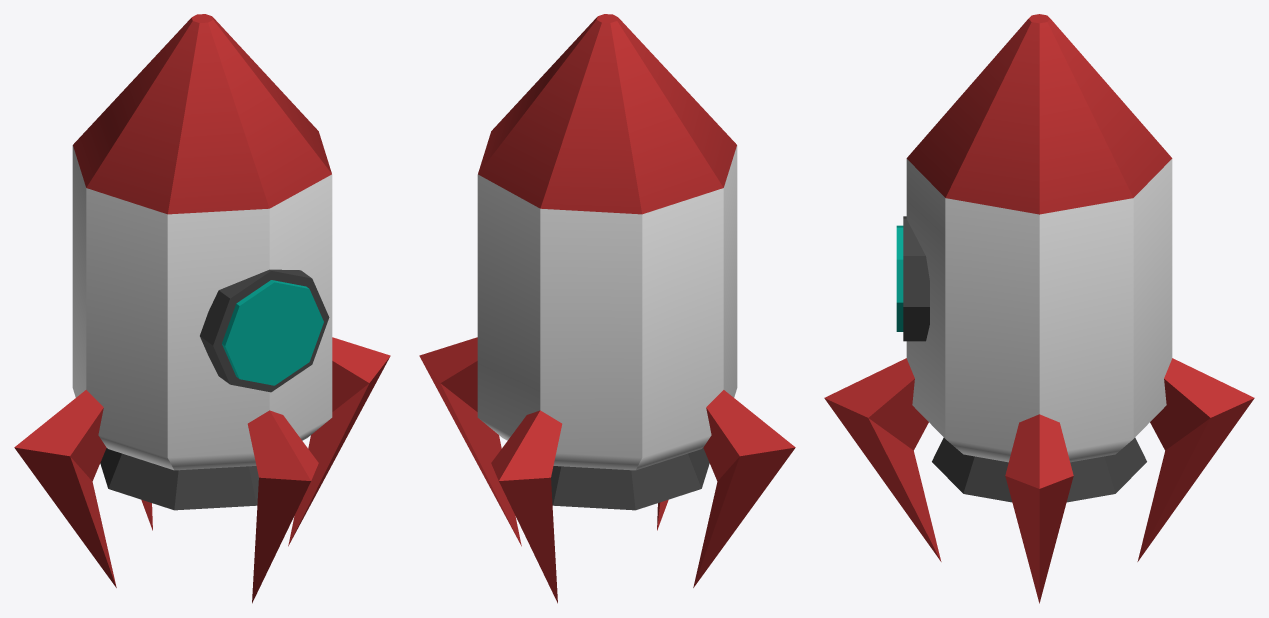
The model's file is rocket_202501291355.fbx.
3 renders of one model, left to right at view 1: azimuth 30°, elevation 25°; view 2: azimuth 150°, elevation 25°; view 3: azimuth 270°, elevation 25°, orthographic.
Parts seen in each view (by area): view 1: pCylinder5; view 2: pCylinder5; view 3: pCylinder5.
Boxes of the visible parts, x1,y1,x2,y2 form: pCylinder5: [14, 14, 390, 603]; pCylinder5: [419, 14, 795, 603]; pCylinder5: [824, 14, 1254, 603].
Size of the model in its own units: 3.24 by 4.51 by 3.24.
